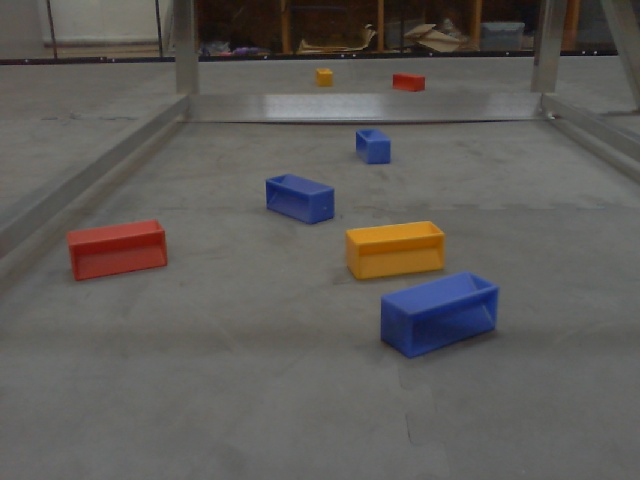BlueSample: (378, 267, 499, 360), (263, 171, 337, 226), (352, 124, 394, 167)
RedSample: (65, 216, 170, 282), (390, 69, 427, 94)
YellowSample: (343, 220, 448, 281), (314, 67, 336, 88)
